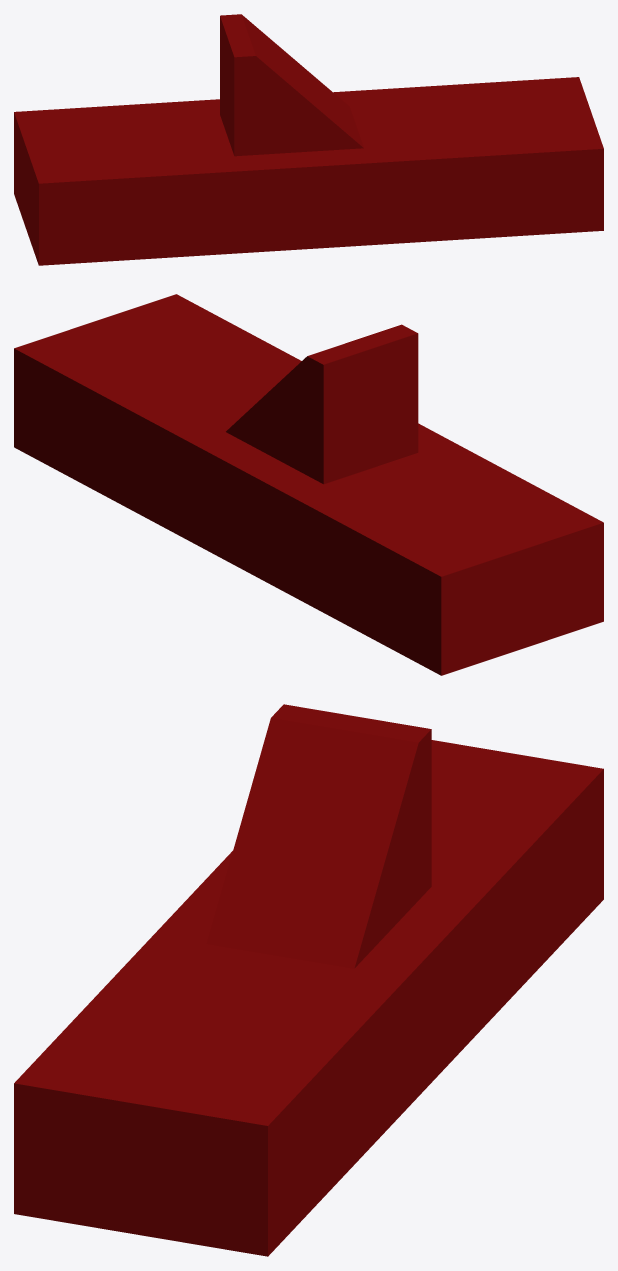
Rendered from BuffulPier_1stLine.fbx.
3 views of the same model, one above another, from view 1: azimuth 30°, elevation 25°; view 2: azimuth 150°, elevation 25°; view 3: azimuth 270°, elevation 25° (orthographic). The views are drawn at different scales.
Parts seen in each view (by area): view 1: BufflePier1stLine; view 2: BufflePier1stLine; view 3: BufflePier1stLine.
Boxes of the visible parts, x1,y1,x2,y2 form: BufflePier1stLine: (14,14,603,265); BufflePier1stLine: (14,294,603,675); BufflePier1stLine: (14,704,603,1256).
Bounding box in the file's own units: 19037 × 6400 × 11870.
Materials: 1 (1 with a texture image).
